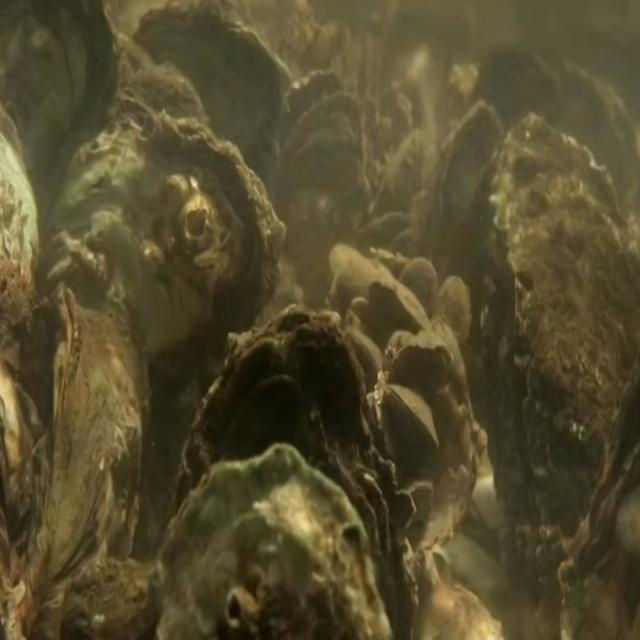Oyster-Closed: (52, 107, 286, 520), (175, 301, 415, 640), (480, 112, 640, 556), (154, 441, 392, 640), (384, 382, 438, 445), (389, 340, 454, 388)
Oyster-Indeterminate: (30, 279, 150, 640), (422, 98, 506, 330), (368, 275, 432, 329), (398, 255, 438, 327), (438, 274, 470, 349)
Oyster-Open: (267, 70, 363, 282)
